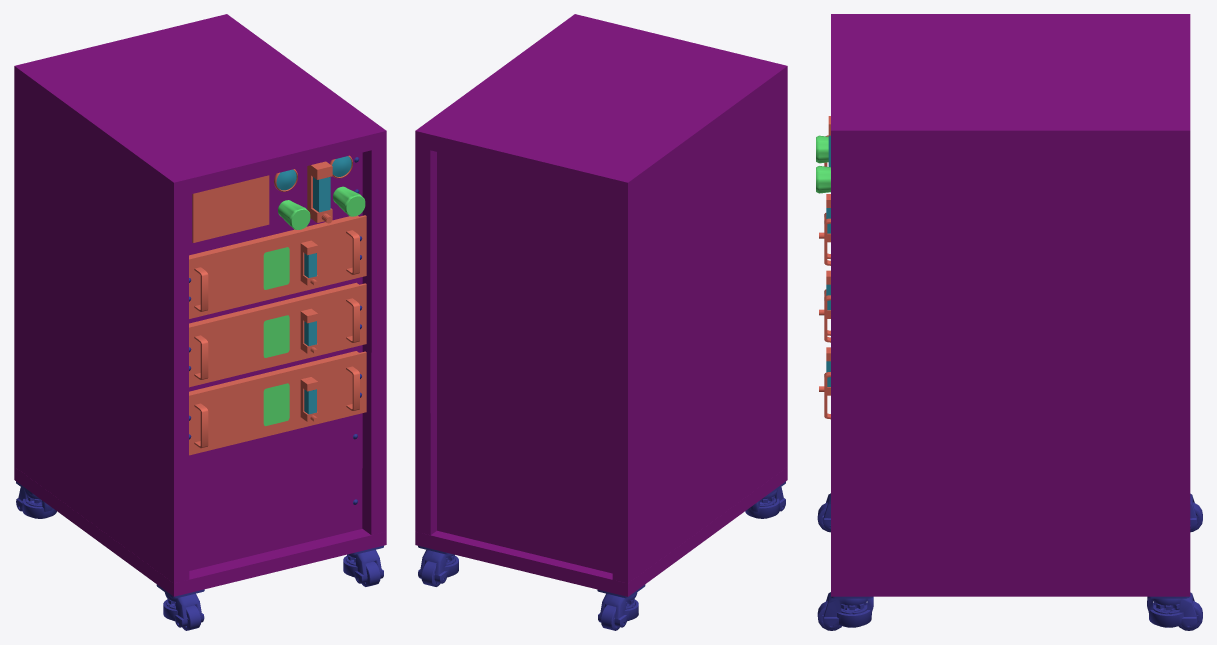
The picture shows the model from 3 angles, left to right: view 1: azimuth 30°, elevation 25°; view 2: azimuth 150°, elevation 25°; view 3: azimuth 270°, elevation 25°; orthographic projection. The views are drawn at different scales.
Parts seen in each view (by area): view 1: 10003; view 2: 10003; view 3: 10003.
Boxes of the visible parts, x1,y1,x2,y2 form: 10003: [14, 14, 386, 630]; 10003: [415, 14, 787, 630]; 10003: [816, 14, 1202, 630].
Bounding box in the file's own units: 50 × 101 × 70.
